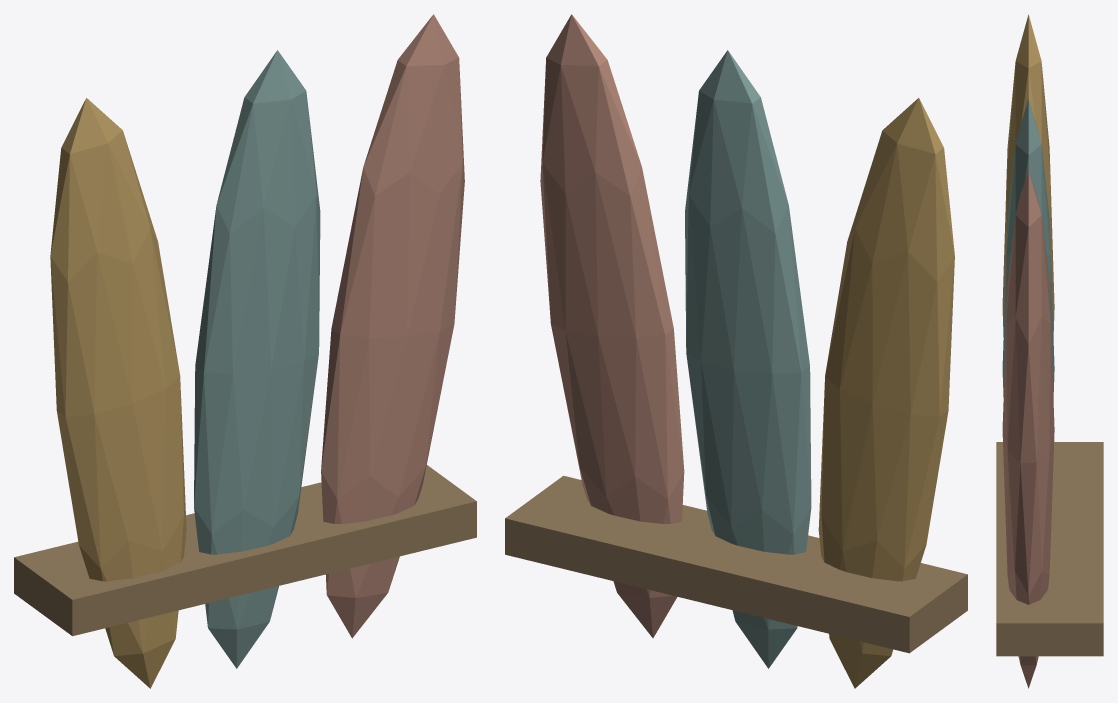
File: map-exclusive-v3__shore_10.glb
The picture shows the model from 3 angles, left to right: view 1: azimuth 30°, elevation 25°; view 2: azimuth 150°, elevation 25°; view 3: azimuth 270°, elevation 25°; orthographic projection. The views are drawn at different scales.
Visible parts, largest first — view 1: shore_10; view 2: shore_10; view 3: shore_10.
Part boxes in pixels (x1,y1,x2,y2): shore_10: (14, 14, 476, 688); shore_10: (505, 14, 967, 688); shore_10: (996, 14, 1103, 688).
Size of the model in its own units: 1.43 by 2.02 by 0.35.
